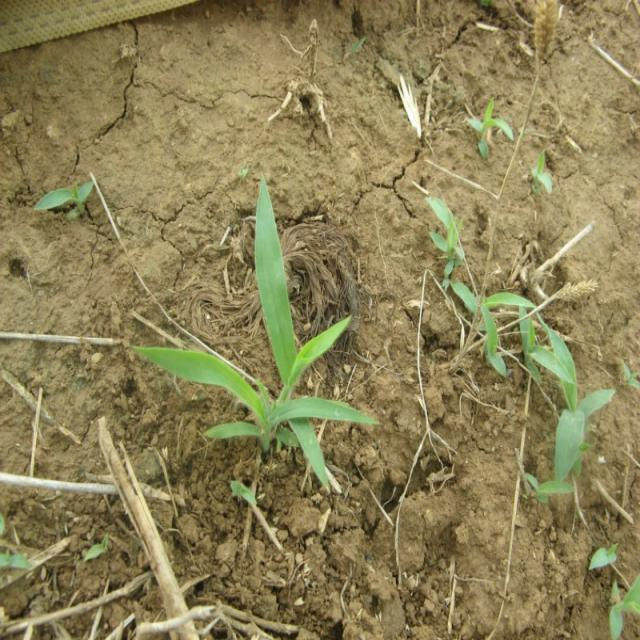bg: (135, 175, 385, 491)
